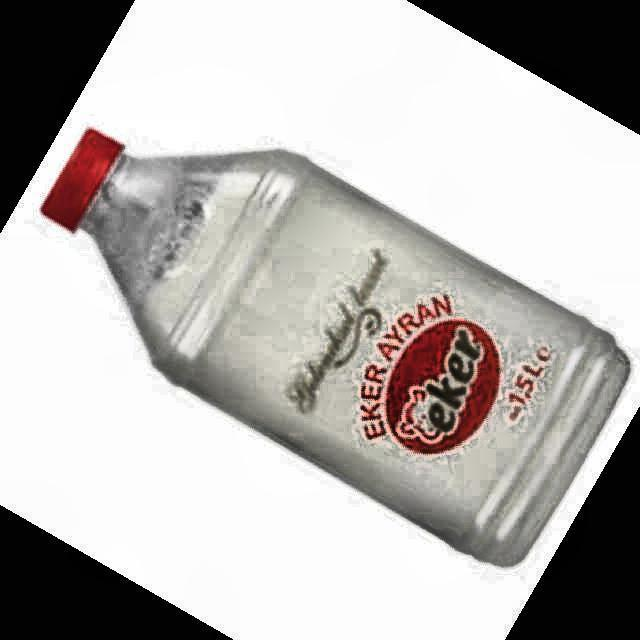plastic: (42, 130, 630, 564)
